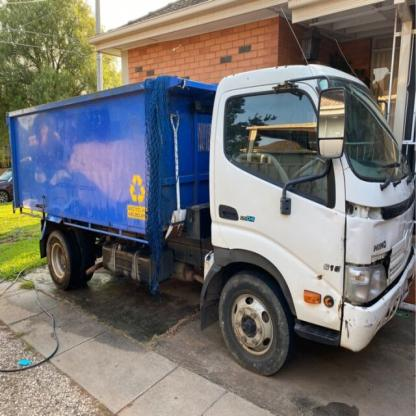dump_truck: (7, 51, 415, 379)
